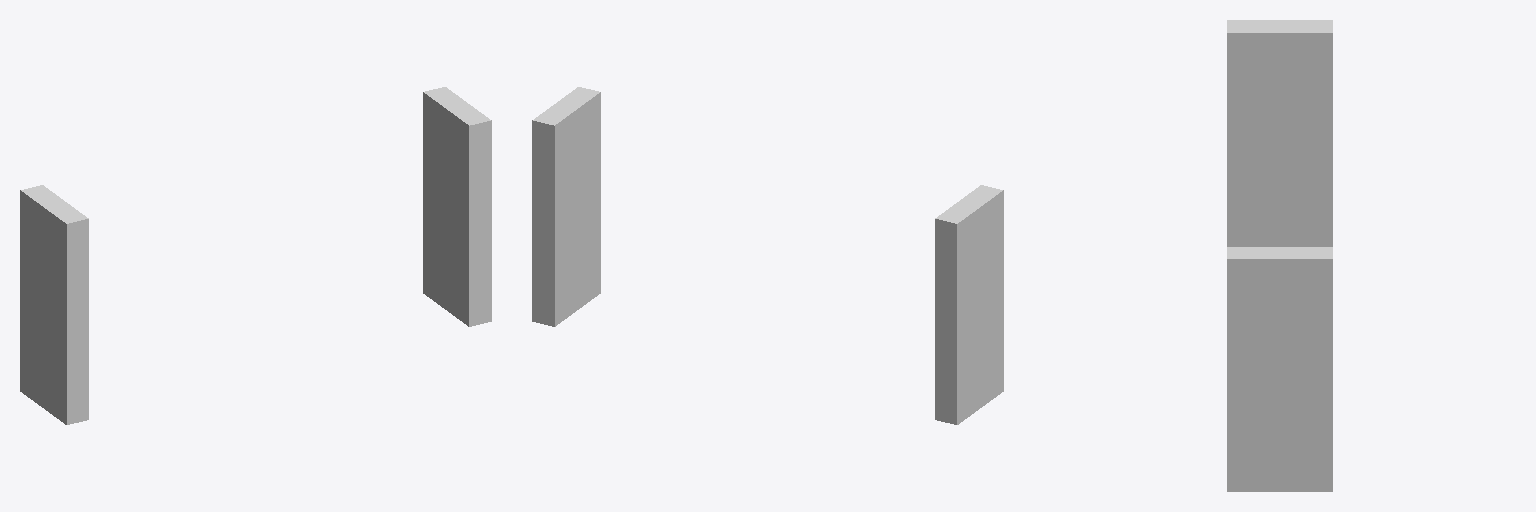
The robot description file, URDF, robot "gen3_6dof_with_robotiq_2f_140":
<?xml version="1.0" ?>
<robot name="gen3_6dof_with_robotiq_2f_140">
  <!-- Kinova Gen3 6DOF Arm -->
  <link name="base_link">
    <inertial>
      <origin xyz="-0.000648 -0.000166 0.084487" rpy="0 0 0" />
      <mass value="1.697" />
      <inertia ixx="0.004622" ixy="9E-06" ixz="6E-05" iyy="0.004495" iyz="9E-06" izz="0.002079" />
    </inertial>
    <visual>
      <origin xyz="0 0 0" rpy="0 0 0" />
      <geometry>
        <mesh filename="package://kortex_description/arms/gen3/6dof/meshes/base_link.STL" />
      </geometry>
      <material name="">
        <color rgba="0.75294 0.75294 0.75294 1" />
      </material>
    </visual>
    <collision>
      <origin xyz="0 0 0" rpy="0 0 0" />
      <geometry>
        <mesh filename="package://kortex_description/arms/gen3/6dof/meshes/base_link.STL" />
      </geometry>
    </collision>
  </link>
  <link name="shoulder_link">
    <inertial>
      <origin xyz="-2.3E-05 -0.010364 -0.07336" rpy="0 0 0" />
      <mass value="1.377" />
      <inertia ixx="0.00457" ixy="1E-06" ixz="2E-06" iyy="0.004831" iyz="0.000448" izz="0.001409" />
    </inertial>
    <visual>
      <origin xyz="0 0 0" rpy="0 0 0" />
      <geometry>
        <mesh filename="package://kortex_description/arms/gen3/6dof/meshes/shoulder_link.STL" />
      </geometry>
      <material name="">
        <color rgba="0.75294 0.75294 0.75294 1" />
      </material>
    </visual>
    <collision>
      <origin xyz="0 0 0" rpy="0 0 0" />
      <geometry>
        <mesh filename="package://kortex_description/arms/gen3/6dof/meshes/shoulder_link.STL" />
      </geometry>
    </collision>
  </link>
  <joint name="joint_1" type="continuous">
    <origin xyz="0 0 0.15643" rpy="-3.1416 0.0 0.0" />
    <parent link="base_link" />
    <child link="shoulder_link" />
    <axis xyz="0 0 1" />
    <limit effort="39" velocity="1.3963" />
  </joint>
  <link name="bicep_link">
    <inertial>
      <origin xyz="3.5E-05 -0.208207 -0.01889" rpy="0 0 0" />
      <mass value="1.262" />
      <inertia ixx="0.046752" ixy="-9E-06" ixz="0" iyy="0.00085" iyz="-9.8E-05" izz="0.047188" />
    </inertial>
    <visual>
      <origin xyz="0 0 0" rpy="0 0 0" />
      <geometry>
        <mesh filename="package://kortex_description/arms/gen3/6dof/meshes/bicep_link.STL" />
      </geometry>
      <material name="">
        <color rgba="0.75294 0.75294 0.75294 1" />
      </material>
    </visual>
    <collision>
      <origin xyz="0 0 0" rpy="0 0 0" />
      <geometry>
        <mesh filename="package://kortex_description/arms/gen3/6dof/meshes/bicep_link.STL" />
      </geometry>
    </collision>
  </link>
  <joint name="joint_2" type="revolute">
    <origin xyz="0 0.005375 -0.12838" rpy="1.5708 0.0 0.0" />
    <parent link="shoulder_link" />
    <child link="bicep_link" />
    <axis xyz="0 0 1" />
    <limit lower="-2.24" upper="2.24" effort="39" velocity="1.3963" />
  </joint>
  <link name="forearm_link">
    <inertial>
      <origin xyz="1.8E-05 0.076168 -0.01397" rpy="0 0 0" />
      <mass value="0.93" />
      <inertia ixx="0.008292" ixy="-1E-06" ixz="0" iyy="0.000628" iyz="0.000432" izz="0.008464" />
    </inertial>
    <visual>
      <origin xyz="0 0 0" rpy="0 0 0" />
      <geometry>
        <mesh filename="package://kortex_description/arms/gen3/6dof/meshes/forearm_link.STL" />
      </geometry>
      <material name="">
        <color rgba="0.75294 0.75294 0.75294 1" />
      </material>
    </visual>
    <collision>
      <origin xyz="0 0 0" rpy="0 0 0" />
      <geometry>
        <mesh filename="package://kortex_description/arms/gen3/6dof/meshes/forearm_link.STL" />
      </geometry>
    </collision>
  </link>
  <joint name="joint_3" type="revolute">
    <origin xyz="0 -0.41 0" rpy="3.1416 0 0" />
    <parent link="bicep_link" />
    <child link="forearm_link" />
    <axis xyz="0 0 1" />
    <limit lower="-2.57" upper="2.57" effort="39" velocity="1.3963" />
  </joint>
  <link name="spherical_wrist_1_link">
    <inertial>
      <origin xyz="-1E-06 0.008486 -0.062937" rpy="0 0 0" />
      <mass value="0.6781" />
      <inertia ixx="0.001645" ixy="0" ixz="0" iyy="0.001666" iyz="-0.000234" izz="0.000389" />
    </inertial>
    <visual>
      <origin xyz="0 0 0" rpy="0 0 0" />
      <geometry>
        <mesh filename="package://kortex_description/arms/gen3/6dof/meshes/spherical_wrist_1_link.STL" />
      </geometry>
      <material name="">
        <color rgba="0.75294 0.75294 0.75294 1" />
      </material>
    </visual>
    <collision>
      <origin xyz="0 0 0" rpy="0 0 0" />
      <geometry>
        <mesh filename="package://kortex_description/arms/gen3/6dof/meshes/spherical_wrist_1_link.STL" />
      </geometry>
    </collision>
  </link>
  <joint name="joint_4" type="continuous">
    <origin xyz="0 0.20843 -0.006375" rpy="1.5708 0.0 0.0" />
    <parent link="forearm_link" />
    <child link="spherical_wrist_1_link" />
    <axis xyz="0 0 1" />
    <limit effort="9" velocity="1.2218" />
  </joint>
  <link name="spherical_wrist_2_link">
    <inertial>
      <origin xyz="-1E-06 0.046429 -0.008704" rpy="0 0 0" />
      <mass value="0.678" />
      <inertia ixx="0.001685" ixy="0" ixz="0" iyy="0.0004" iyz="0.000255" izz="0.001696" />
    </inertial>
    <visual>
      <origin xyz="0 0 0" rpy="0 0 0" />
      <geometry>
        <mesh filename="package://kortex_description/arms/gen3/6dof/meshes/spherical_wrist_2_link.STL" />
      </geometry>
      <material name="">
        <color rgba="0.75294 0.75294 0.75294 1" />
      </material>
    </visual>
    <collision>
      <origin xyz="0 0 0" rpy="0 0 0" />
      <geometry>
        <mesh filename="package://kortex_description/arms/gen3/6dof/meshes/spherical_wrist_2_link.STL" />
      </geometry>
    </collision>
  </link>
  <joint name="joint_5" type="revolute">
    <origin xyz="0 -0.00017505 -0.10593" rpy="-1.5708 0.0 0.0" />
    <parent link="spherical_wrist_1_link" />
    <child link="spherical_wrist_2_link" />
    <axis xyz="0 0 1" />
    <limit lower="-2.09" upper="2.09" effort="9" velocity="1.2218" />
  </joint>
  <link name="bracelet_link">
    <inertial>
      <origin xyz="0.000281 0.011402 -0.029798" rpy="0 0 0" />
      <mass value="0.5" />
      <inertia ixx="0.000587" ixy="3E-06" ixz="3E-06" iyy="0.000369" iyz="-0.000118" izz="0.000609" />
    </inertial>
    <visual>
      <origin xyz="0 0 0" rpy="0 0 0" />
      <geometry>
        <mesh filename="package://kortex_description/arms/gen3/6dof/meshes/bracelet_with_vision_link.STL" />
      </geometry>
      <material name="">
        <color rgba="0.75294 0.75294 0.75294 1" />
      </material>
    </visual>
    <collision>
      <origin xyz="0 0 0" rpy="0 0 0" />
      <geometry>
        <mesh filename="package://kortex_description/arms/gen3/6dof/meshes/bracelet_with_vision_link.STL" />
      </geometry>
    </collision>
  </link>
  <joint name="joint_6" type="continuous">
    <origin xyz="0 0.10593 -0.00017505" rpy="1.5708 0.0 0.0" />
    <parent link="spherical_wrist_2_link" />
    <child link="bracelet_link" />
    <axis xyz="0 0 1" />
    <limit effort="9" velocity="1.2218" />
  </joint>
  <link name="end_effector_link">
    <inertial>
      <origin xyz="0 0 0" rpy="0 0 0" />
      <mass value="0" />
      <inertia ixx="0" ixy="0" ixz="0" iyy="0" iyz="0" izz="0" />
    </inertial>
  </link>
  <joint name="end_effector" type="fixed">
    <origin xyz="0 0 -0.061525" rpy="3.1416 0 -3.1416" />
    <parent link="bracelet_link" />
    <child link="end_effector_link" />
    <axis xyz="0 0 0" />
  </joint>
  <link name="camera_link" />
  <joint name="camera_module" type="fixed">
    <origin xyz="0 0.05639 -0.00305" rpy="3.14159265358979 3.14159265358979 0" />
    <parent link="end_effector_link" />
    <child link="camera_link" />
  </joint>
  <link name="camera_depth_frame" />
  <joint name="depth_module" type="fixed">
    <origin xyz="0.0275 0.066 -0.00305" rpy="3.14159265358979 3.14159265358979 0" />
    <parent link="end_effector_link" />
    <child link="camera_depth_frame" />
  </joint>
  <link name="camera_color_frame" />
  <joint name="color_module" type="fixed">
    <origin xyz="0 0.05639 -0.00305" rpy="3.14159265358979 3.14159265358979 0" />
    <parent link="end_effector_link" />
    <child link="camera_color_frame" />
  </joint>

  <!-- Connecting Joint: Attach Gripper to Arm -->
  <joint name="arm_to_gripper_joint" type="fixed">
    <origin xyz="0 0 -0.01" rpy="0 0 -1.5708" />
    <parent link="end_effector_link" />
    <child link="robotiq_2f_base_link" />
  </joint>

  <!-- Robotiq 2F-140 Gripper -->
  <link name="robotiq_2f_base_link">
    <inertial>
      <origin rpy="0 0 0" xyz="8.625E-08 -4.6583E-06 0.03145"/>
      <mass value="0.22652"/>
      <inertia ixx="0.00020005" ixy="-4.2442E-10" ixz="-2.9069E-10" iyy="0.00017832" iyz="-3.4402E-08" izz="0.00013478"/>
    </inertial>
    <visual>
      <origin rpy="0 0 0" xyz="0 0 0"/>
      <geometry>
        <mesh filename="package://robotiq_description/meshes/visual/2f_140/robotiq_2f_140_base_link.stl"/>
      </geometry>
      <material name="">
        <color rgba="0.1 0.1 0.1 1"/>
      </material>
    </visual>
    <collision>
      <origin rpy="0 0 0" xyz="0 0 0"/>
      <geometry>
        <mesh filename="package://robotiq_description/meshes/collision/2f_140/robotiq_2f_140_base_link.stl"/>
      </geometry>
    </collision>
  </link>
  <link name="left_outer_knuckle">
    <inertial>
      <origin rpy="0 0 0" xyz="-0.000200000000003065 0.0199435877845359 0.0292245259211331"/>
      <mass value="0.00853198276973456"/>
      <inertia ixx="2.89328108496468E-06" ixy="-1.57935047237397E-19" ixz="-1.93980378593255E-19" iyy="1.86719750325683E-06" iyz="-1.21858577871576E-06" izz="1.21905238907251E-06"/>
    </inertial>
    <visual>
      <origin rpy="0 0 0" xyz="0 0 0"/>
      <geometry>
        <mesh filename="package://robotiq_description/meshes/visual/2f_140/robotiq_2f_140_outer_knuckle.stl"/>
      </geometry>
      <material name="">
        <color rgba="0.792156862745098 0.819607843137255 0.933333333333333 1"/>
      </material>
    </visual>
    <collision>
      <origin rpy="0 0 0" xyz="0 0 0"/>
      <geometry>
        <mesh filename="package://robotiq_description/meshes/collision/2f_140/robotiq_2f_140_outer_knuckle.stl"/>
      </geometry>
    </collision>
  </link>
  <link name="left_outer_finger">
    <inertial>
      <origin rpy="0 0 0" xyz="0.00030115855001899 0.0373907951953854 -0.0208027427000385"/>
      <mass value="0.022614240507152"/>
      <inertia ixx="1.52518312458174E-05" ixy="9.76583423954399E-10" ixz="-5.43838577022588E-10" iyy="6.17694243867776E-06" iyz="6.78636130740228E-06" izz="1.16494917907219E-05"/>
    </inertial>
    <visual>
      <origin rpy="0 0 0" xyz="0 0 0"/>
      <geometry>
        <mesh filename="package://robotiq_description/meshes/visual/2f_140/robotiq_2f_140_outer_finger.stl"/>
      </geometry>
      <material name="">
        <color rgba="0.1 0.1 0.1 1"/>
      </material>
    </visual>
    <collision>
      <origin rpy="0 0 0" xyz="0 0 0"/>
      <geometry>
        <mesh filename="package://robotiq_description/meshes/collision/2f_140/robotiq_2f_140_outer_finger.stl"/>
      </geometry>
    </collision>
  </link>
  <link name="left_inner_finger">
    <inertial>
      <origin rpy="0 0 0" xyz="0.000299999999999317 0.0160078233491243 -0.0136945669206257"/>
      <mass value="0.0104003125914103"/>
      <inertia ixx="2.71909453810972E-06" ixy="1.35402465472579E-21" ixz="-7.1817349065269E-22" iyy="7.69100314106116E-07" iyz="6.74715432769696E-07" izz="2.30315190420171E-06"/>
    </inertial>
    <visual>
      <origin rpy="0 0 0" xyz="0 0 0"/>
      <geometry>
        <mesh filename="package://robotiq_description/meshes/visual/2f_140/robotiq_2f_140_inner_finger.stl"/>
      </geometry>
      <material name="">
        <color rgba="0.1 0.1 0.1 1"/>
      </material>
    </visual>
    <collision>
      <origin rpy="0 0 0" xyz="0 0 0"/>
      <geometry>
        <mesh filename="package://robotiq_description/meshes/collision/2f_140/robotiq_2f_140_inner_finger.stl"/>
      </geometry>
    </collision>
  </link>
  <link name="left_inner_finger_pad">
    <visual>
      <origin rpy="0 0 0" xyz="0 0 0"/>
      <geometry>
        <box size="0.027 0.065 0.0075"/>
      </geometry>
      <material name="">
        <color rgba="0.9 0.9 0.9 1"/>
      </material>
    </visual>
    <collision>
      <origin rpy="0 0 0" xyz="0 0 0"/>
      <geometry>
        <box size="0.03 0.07 0.0075"/>
      </geometry>
      <material name="">
        <color rgba="0.9 0.0 0.0 1"/>
      </material>
    </collision>
  </link>
  <link name="left_inner_knuckle">
    <inertial>
      <origin rpy="0 0 0" xyz="0.000123011831763771 0.0507850843201817 0.00103968640075166"/>
      <mass value="0.0271177346495152"/>
      <inertia ixx="2.61910379223783E-05" ixy="-2.43616858946494E-07" ixz="-6.37789906117123E-09" iyy="2.8270243746167E-06" iyz="-5.37200748039765E-07" izz="2.83695868220296E-05"/>
    </inertial>
    <visual>
      <origin rpy="0 0 0" xyz="0 0 0"/>
      <geometry>
        <mesh filename="package://robotiq_description/meshes/visual/2f_140/robotiq_2f_140_inner_knuckle.stl"/>
      </geometry>
      <material name="">
        <color rgba="0.1 0.1 0.1 1"/>
      </material>
    </visual>
    <collision>
      <origin rpy="0 0 0" xyz="0 0 0"/>
      <geometry>
        <mesh filename="package://robotiq_description/meshes/collision/2f_140/robotiq_2f_140_inner_knuckle.stl"/>
      </geometry>
    </collision>
  </link>
  <link name="right_outer_knuckle">
    <inertial>
      <origin rpy="0 0 0" xyz="-0.000200000000003065 0.0199435877845359 0.0292245259211331"/>
      <mass value="0.00853198276973456"/>
      <inertia ixx="2.89328108496468E-06" ixy="-1.57935047237397E-19" ixz="-1.93980378593255E-19" iyy="1.86719750325683E-06" iyz="-1.21858577871576E-06" izz="1.21905238907251E-06"/>
    </inertial>
    <visual>
      <origin rpy="0 0 0" xyz="0 0 0"/>
      <geometry>
        <mesh filename="package://robotiq_description/meshes/visual/2f_140/robotiq_2f_140_outer_knuckle.stl"/>
      </geometry>
      <material name="">
        <color rgba="0.792156862745098 0.819607843137255 0.933333333333333 1"/>
      </material>
    </visual>
    <collision>
      <origin rpy="0 0 0" xyz="0 0 0"/>
      <geometry>
        <mesh filename="package://robotiq_description/meshes/collision/2f_140/robotiq_2f_140_outer_knuckle.stl"/>
      </geometry>
    </collision>
  </link>
  <link name="right_outer_finger">
    <inertial>
      <origin rpy="0 0 0" xyz="0.00030115855001899 0.0373907951953854 -0.0208027427000385"/>
      <mass value="0.022614240507152"/>
      <inertia ixx="1.52518312458174E-05" ixy="9.76583423954399E-10" ixz="-5.43838577022588E-10" iyy="6.17694243867776E-06" iyz="6.78636130740228E-06" izz="1.16494917907219E-05"/>
    </inertial>
    <visual>
      <origin rpy="0 0 0" xyz="0 0 0"/>
      <geometry>
        <mesh filename="package://robotiq_description/meshes/visual/2f_140/robotiq_2f_140_outer_finger.stl"/>
      </geometry>
      <material name="">
        <color rgba="0.1 0.1 0.1 1"/>
      </material>
    </visual>
    <collision>
      <origin rpy="0 0 0" xyz="0 0 0"/>
      <geometry>
        <mesh filename="package://robotiq_description/meshes/collision/2f_140/robotiq_2f_140_outer_finger.stl"/>
      </geometry>
    </collision>
  </link>
  <link name="right_inner_finger">
    <inertial>
      <origin rpy="0 0 0" xyz="0.000299999999999317 0.0160078233491243 -0.0136945669206257"/>
      <mass value="0.0104003125914103"/>
      <inertia ixx="2.71909453810972E-06" ixy="1.35402465472579E-21" ixz="-7.1817349065269E-22" iyy="7.69100314106116E-07" iyz="6.74715432769696E-07" izz="2.30315190420171E-06"/>
    </inertial>
    <visual>
      <origin rpy="0 0 0" xyz="0 0 0"/>
      <geometry>
        <mesh filename="package://robotiq_description/meshes/visual/2f_140/robotiq_2f_140_inner_finger.stl"/>
      </geometry>
      <material name="">
        <color rgba="0.1 0.1 0.1 1"/>
      </material>
    </visual>
    <collision>
      <origin rpy="0 0 0" xyz="0 0 0"/>
      <geometry>
        <mesh filename="package://robotiq_description/meshes/collision/2f_140/robotiq_2f_140_inner_finger.stl"/>
      </geometry>
    </collision>
  </link>
  <link name="right_inner_finger_pad">
    <visual>
      <origin rpy="0 0 0" xyz="0 0 0"/>
      <geometry>
        <box size="0.027 0.065 0.0075"/>
      </geometry>
      <material name="">
        <color rgba="0.9 0.9 0.9 1"/>
      </material>
    </visual>
    <collision>
      <origin rpy="0 0 0" xyz="0 0 0"/>
      <geometry>
        <box size="0.03 0.07 0.0075"/>
      </geometry>
      <material name="">
        <color rgba="0.9 0.0 0.0 1"/>
      </material>
    </collision>
  </link>
  <link name="right_inner_knuckle">
    <inertial>
      <origin rpy="0 0 0" xyz="0.000123011831763771 0.0507850843201817 0.00103968640075166"/>
      <mass value="0.0271177346495152"/>
      <inertia ixx="2.61910379223783E-05" ixy="-2.43616858946494E-07" ixz="-6.37789906117123E-09" iyy="2.8270243746167E-06" iyz="-5.37200748039765E-07" izz="2.83695868220296E-05"/>
    </inertial>
    <visual>
      <origin rpy="0 0 0" xyz="0 0 0"/>
      <geometry>
        <mesh filename="package://robotiq_description/meshes/visual/2f_140/robotiq_2f_140_inner_knuckle.stl"/>
      </geometry>
      <material name="">
        <color rgba="0.1 0.1 0.1 1"/>
      </material>
    </visual>
    <collision>
      <origin rpy="0 0 0" xyz="0 0 0"/>
      <geometry>
        <mesh filename="package://robotiq_description/meshes/collision/2f_140/robotiq_2f_140_inner_knuckle.stl"/>
      </geometry>
    </collision>
  </link>
  <joint name="finger_joint" type="revolute">
    <origin rpy="2.2957963267948966 0 0" xyz="0 -0.030601 0.054905"/>
    <parent link="robotiq_2f_base_link"/>
    <child link="left_outer_knuckle"/>
    <axis xyz="-1 0 0"/>
    <limit effort="1000" lower="0" upper="0.7" velocity="2.0"/>
  </joint>
  <joint name="left_outer_finger_joint" type="fixed">
    <origin rpy="0 0 0" xyz="0 0.01821998610742 0.0260018192872234"/>
    <parent link="left_outer_knuckle"/>
    <child link="left_outer_finger"/>
    <axis xyz="1 0 0"/>
  </joint>
  <joint name="left_inner_knuckle_joint" type="revolute">
    <origin rpy="2.2957963267948966 0 0.0" xyz="0 -0.0127 0.06142"/>
    <parent link="robotiq_2f_base_link"/>
    <child link="left_inner_knuckle"/>
    <axis xyz="1 0 0"/>
    <limit effort="1000" lower="-0.8757" upper="0.8757" velocity="2.0"/>
    <mimic joint="finger_joint" multiplier="-1" offset="0"/>
  </joint>
  <joint name="left_inner_finger_joint" type="revolute">
    <origin rpy="-0.725 0 0" xyz="0 0.0817554015893473 -0.0282203446692936"/>
    <parent link="left_outer_finger"/>
    <child link="left_inner_finger"/>
    <axis xyz="1 0 0"/>
    <limit effort="1000" lower="-0.8757" upper="0.8757" velocity="2.0"/>
    <mimic joint="finger_joint" multiplier="1" offset="0"/>
  </joint>
  <joint name="left_inner_finger_pad_joint" type="fixed">
    <origin rpy="0 0 0" xyz="0 0.0457554015893473 -0.0272203446692936"/>
    <parent link="left_inner_finger"/>
    <child link="left_inner_finger_pad"/>
    <axis xyz="0 0 1"/>
  </joint>
  <joint name="right_outer_knuckle_joint" type="revolute">
    <origin rpy="2.2957963267948966 0 3.141592653589793" xyz="0 0.030601 0.054905"/>
    <parent link="robotiq_2f_base_link"/>
    <child link="right_outer_knuckle"/>
    <axis xyz="1 0 0"/>
    <limit effort="1000" lower="-0.725" upper="0.725" velocity="2.0"/>
    <mimic joint="finger_joint" multiplier="-1" offset="0"/>
  </joint>
  <joint name="right_outer_finger_joint" type="fixed">
    <origin rpy="0 0 0" xyz="0 0.01821998610742 0.0260018192872234"/>
    <parent link="right_outer_knuckle"/>
    <child link="right_outer_finger"/>
    <axis xyz="1 0 0"/>
  </joint>
  <joint name="right_inner_knuckle_joint" type="revolute">
    <origin rpy="2.2957963267948966 0 -3.141592653589793" xyz="0 0.0127 0.06142"/>
    <parent link="robotiq_2f_base_link"/>
    <child link="right_inner_knuckle"/>
    <axis xyz="1 0 0"/>
    <limit effort="1000" lower="-0.8757" upper="0.8757" velocity="2.0"/>
    <mimic joint="finger_joint" multiplier="-1" offset="0"/>
  </joint>
  <joint name="right_inner_finger_joint" type="revolute">
    <origin rpy="-0.725 0 0" xyz="0 0.0817554015893473 -0.0282203446692936"/>
    <parent link="right_outer_finger"/>
    <child link="right_inner_finger"/>
    <axis xyz="1 0 0"/>
    <limit effort="1000" lower="-0.8757" upper="0.8757" velocity="2.0"/>
    <mimic joint="finger_joint" multiplier="1" offset="0"/>
  </joint>
  <joint name="right_inner_finger_pad_joint" type="fixed">
    <origin rpy="0 0 0" xyz="0 0.0457554015893473 -0.0272203446692936"/>
    <parent link="right_inner_finger"/>
    <child link="right_inner_finger_pad"/>
    <axis xyz="0 0 1"/>
  </joint>
  <transmission name="finger_joint_trans">
    <type>transmission_interface/SimpleTransmission</type>
    <joint name="finger_joint">
      <hardwareInterface>PositionJointInterface</hardwareInterface>
    </joint>
    <actuator name="finger_joint_motor">
      <mechanicalReduction>1</mechanicalReduction>
    </actuator>
  </transmission>
</robot>

--- Render facts (derived) ---
Views: 3 orthographic renders of the robot side by side, from view 1: azimuth 30°, elevation 25°; view 2: azimuth 150°, elevation 25°; view 3: azimuth 270°, elevation 25°.
Robot: gen3_6dof_with_robotiq_2f_140 — 22 links, 21 joints (9 revolute, 3 continuous, 9 fixed); root link base_link; default pose: every joint at zero.
Links seen in each view (by area): view 1: left_inner_finger_pad, right_inner_finger_pad; view 2: left_inner_finger_pad, right_inner_finger_pad; view 3: left_inner_finger_pad, right_inner_finger_pad.
Link boxes in pixels (left/top/right/bottom): left_inner_finger_pad: left=423, top=87, right=491, bottom=326; right_inner_finger_pad: left=20, top=185, right=88, bottom=424; left_inner_finger_pad: left=532, top=87, right=600, bottom=326; right_inner_finger_pad: left=935, top=185, right=1003, bottom=424; left_inner_finger_pad: left=1227, top=247, right=1332, bottom=491; right_inner_finger_pad: left=1227, top=20, right=1332, bottom=246.
Size in the robot's own frame: 0.1435 by 0.027 by 0.065 metres.
Meshes: 12 distinct files referenced, 0 mesh visuals loaded (none loaded); not drawn: 9 (reference not matched to a file when rendering), 7 (file found but could not be loaded).